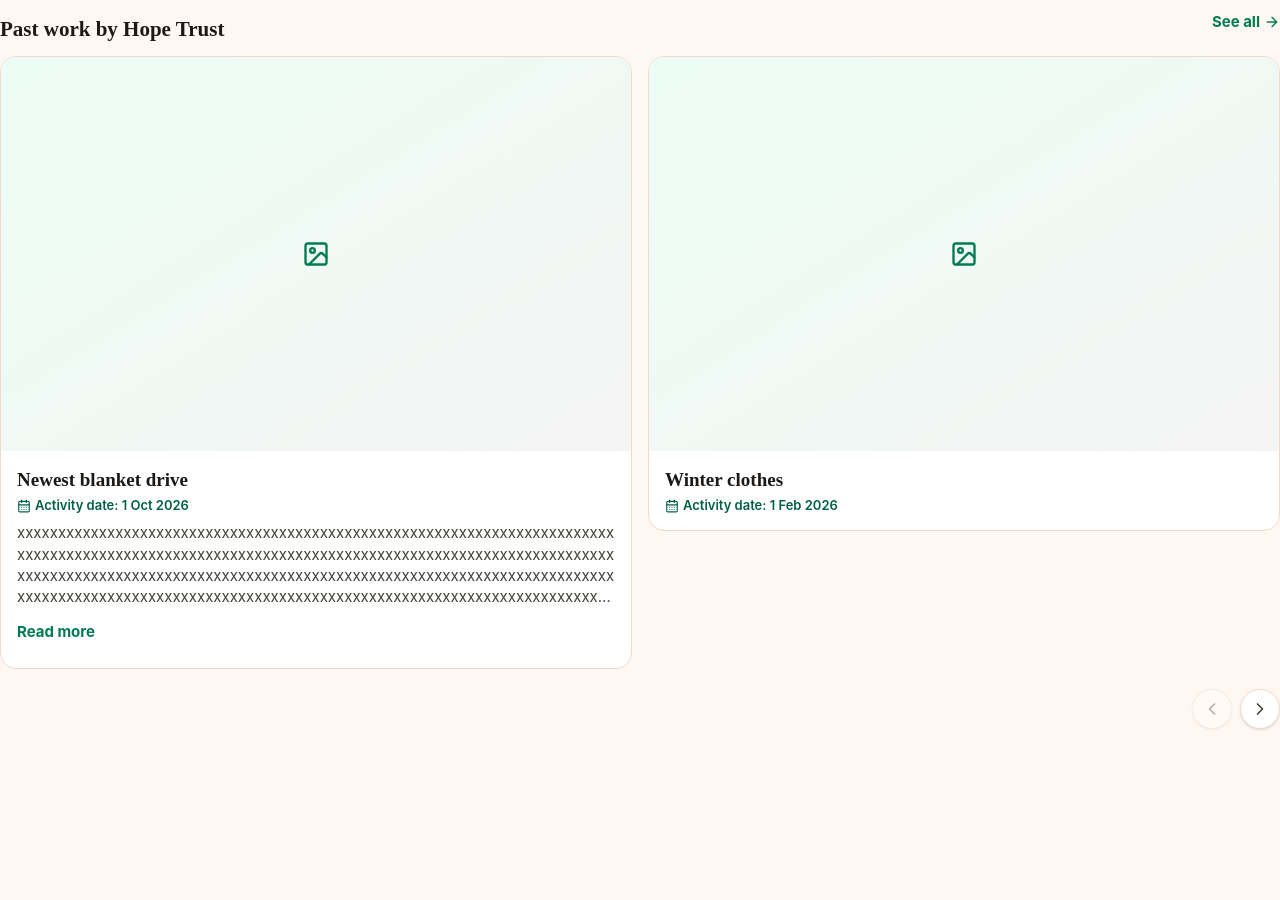
Test: Past work by the NGO › shows approved only, newest first, 3 latest and See all
Expected: the heading "Past work by Hope Trust" is shown, [0,15,224,44]
Click the button "Read more": click(56, 630) [17,608,95,652]
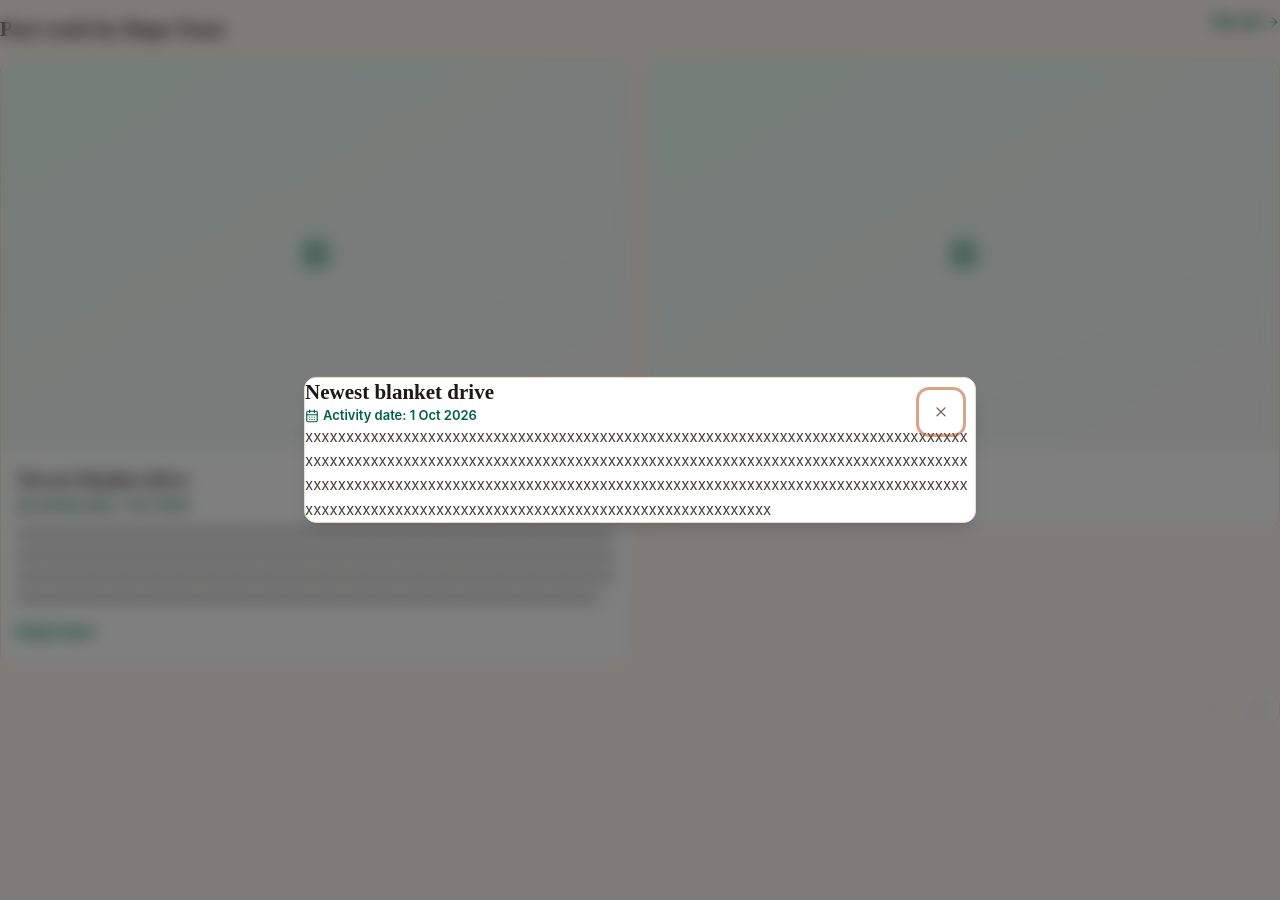
Now the dialog with test id "past-work-detail" is shown, box [304,377,976,523]
